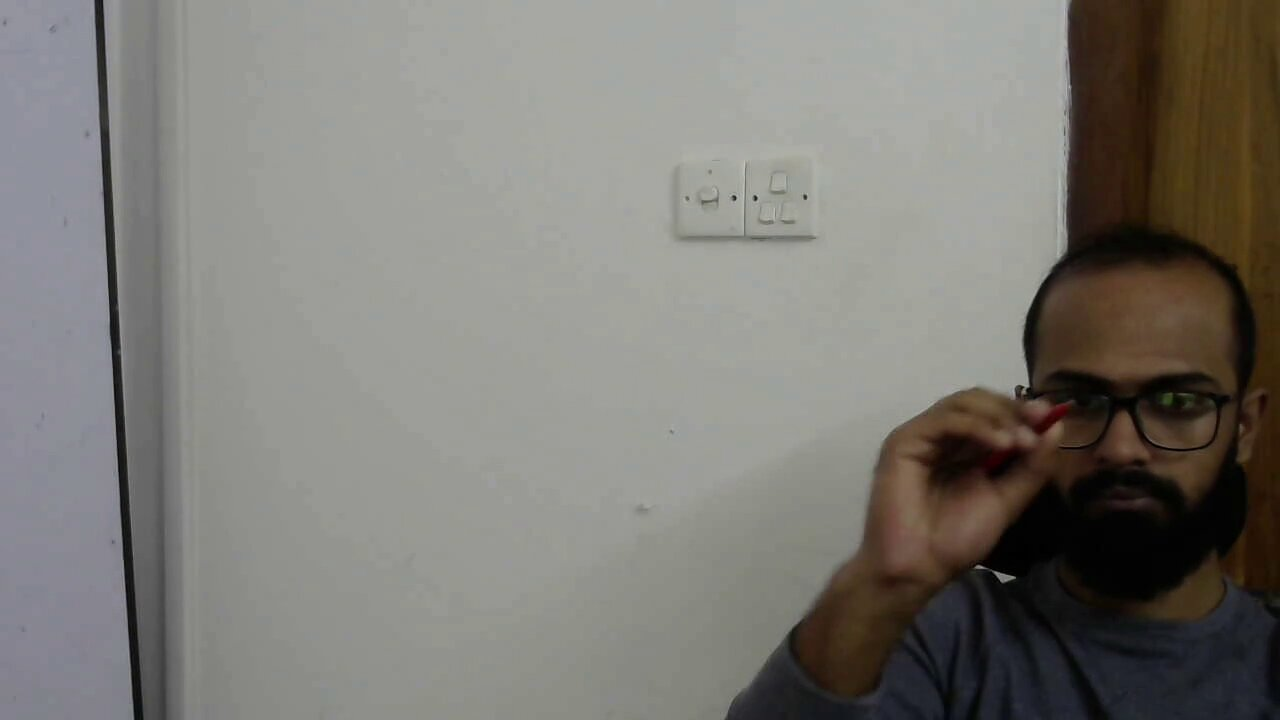pointer: (879, 392, 1068, 523)
